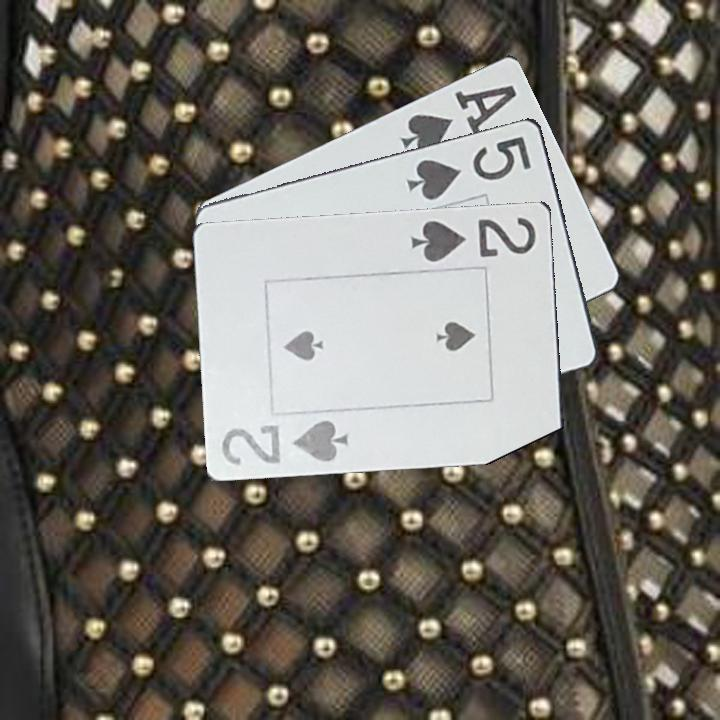2s: (218, 416, 351, 468), (408, 213, 540, 265)
5s: (404, 132, 535, 203)
As: (395, 80, 520, 157)
